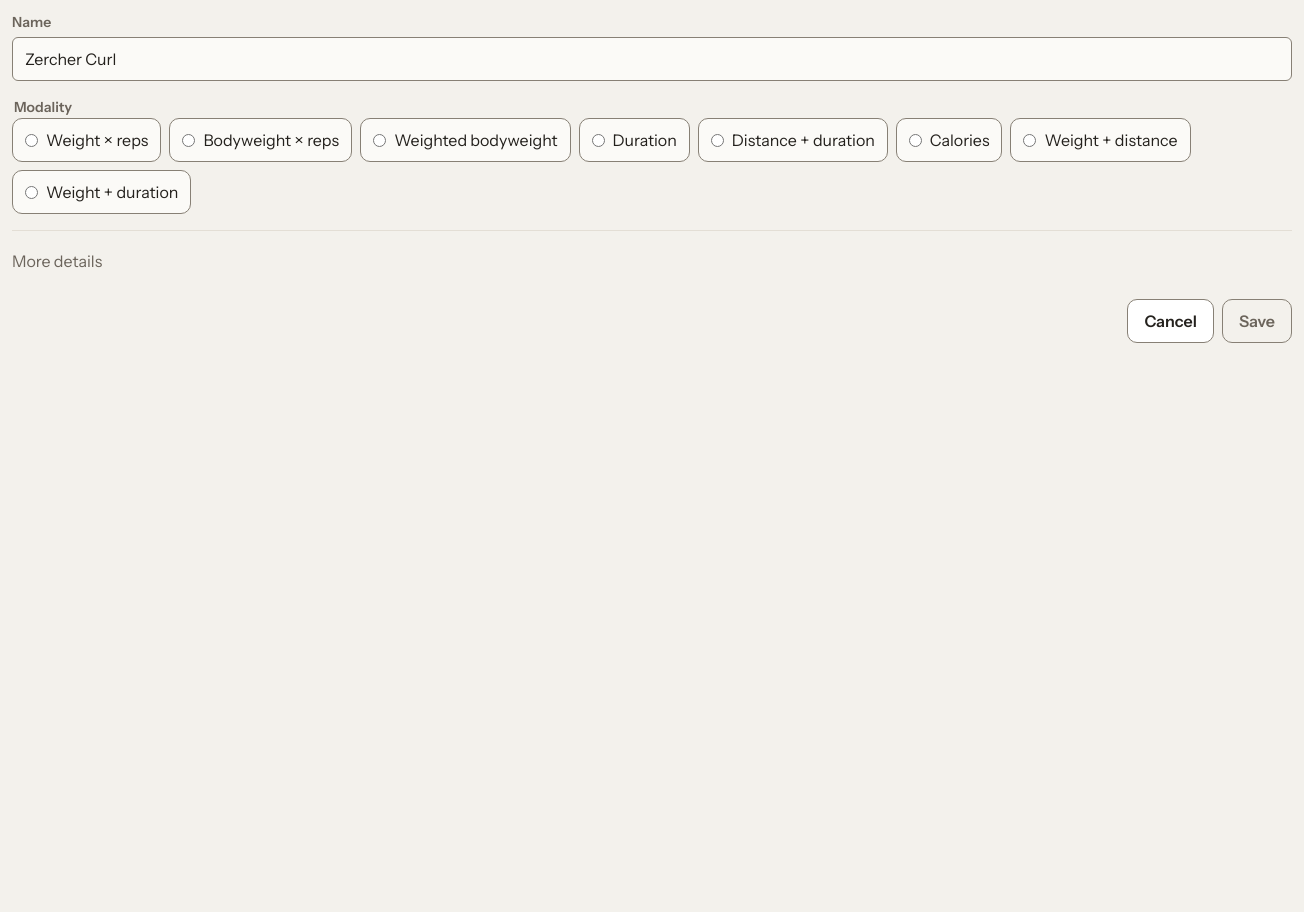
AC29 — create outcomes › 422 → per-field messages, and a form-level message for an unmatched path
Click the radio button labelled "Duration" at (598, 140), box [592,134,604,146]
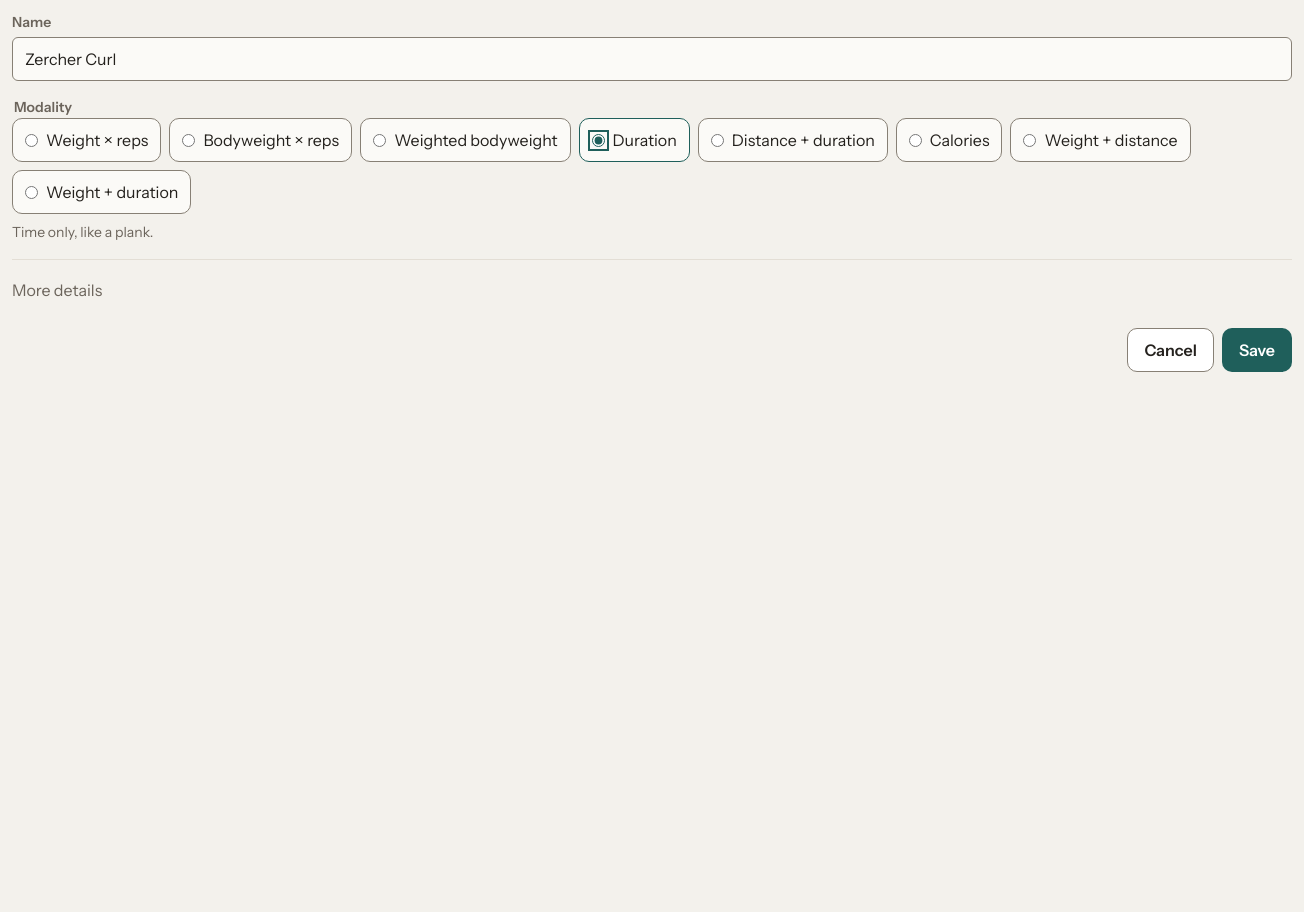
Click the button "Save" at (1257, 350), box [1222,328,1292,372]
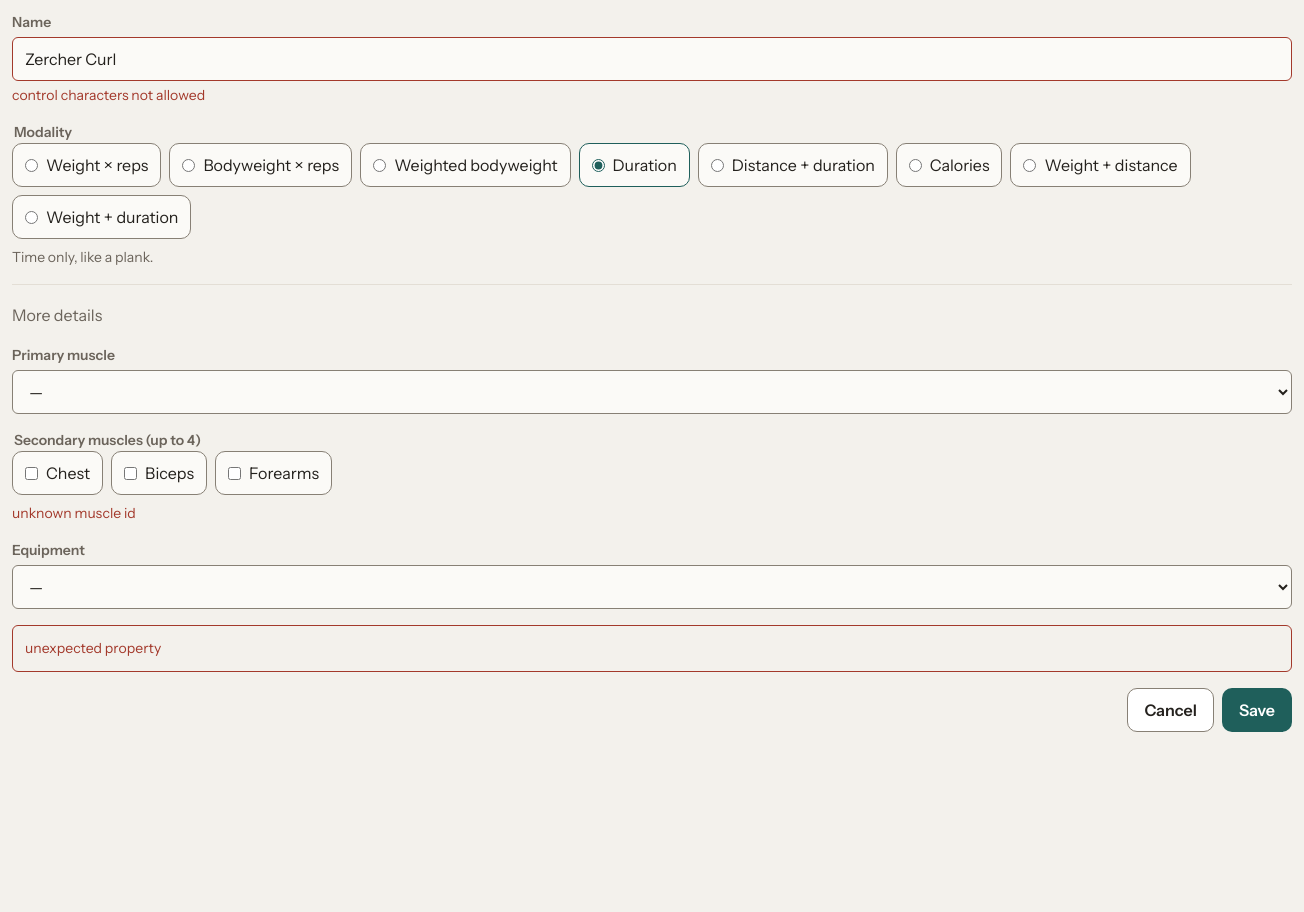
expect the text "control characters not allowed" is shown: met, box [12,86,205,104]
expect the text "unknown muscle id" is shown: met, box [12,504,136,522]
expect the text "unexpected property" is shown: met, box [12,625,1292,672]
